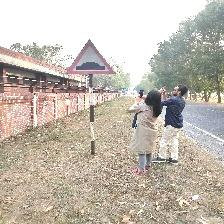Speed-breaker: (67, 41, 115, 74)
